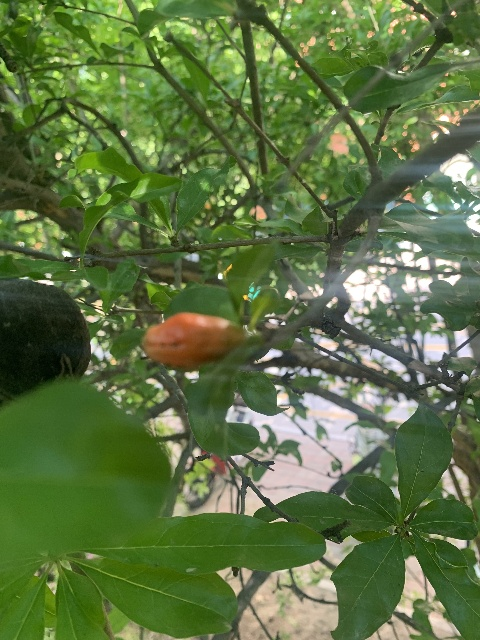bud: (142, 312, 243, 369)
